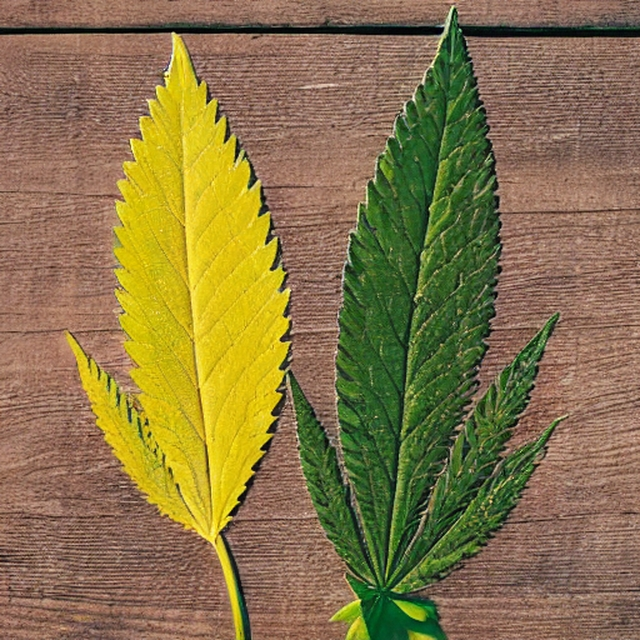Marijuana Leaf: (287, 3, 568, 639), (63, 29, 294, 639)
